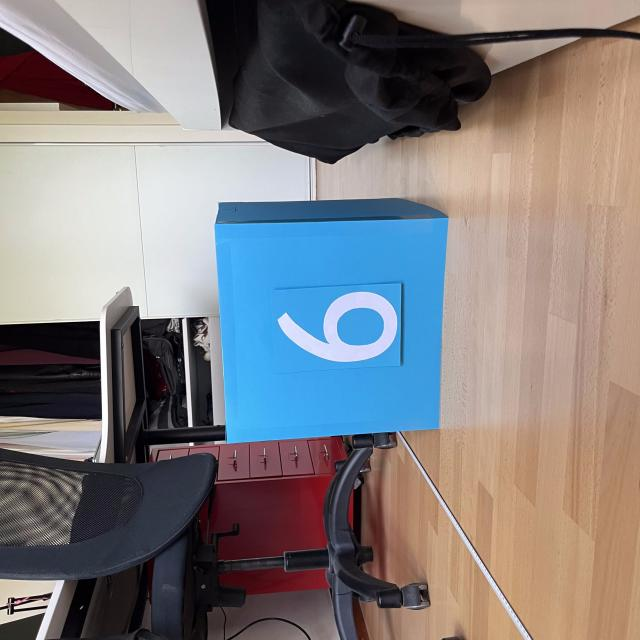box: (210, 194, 451, 442)
